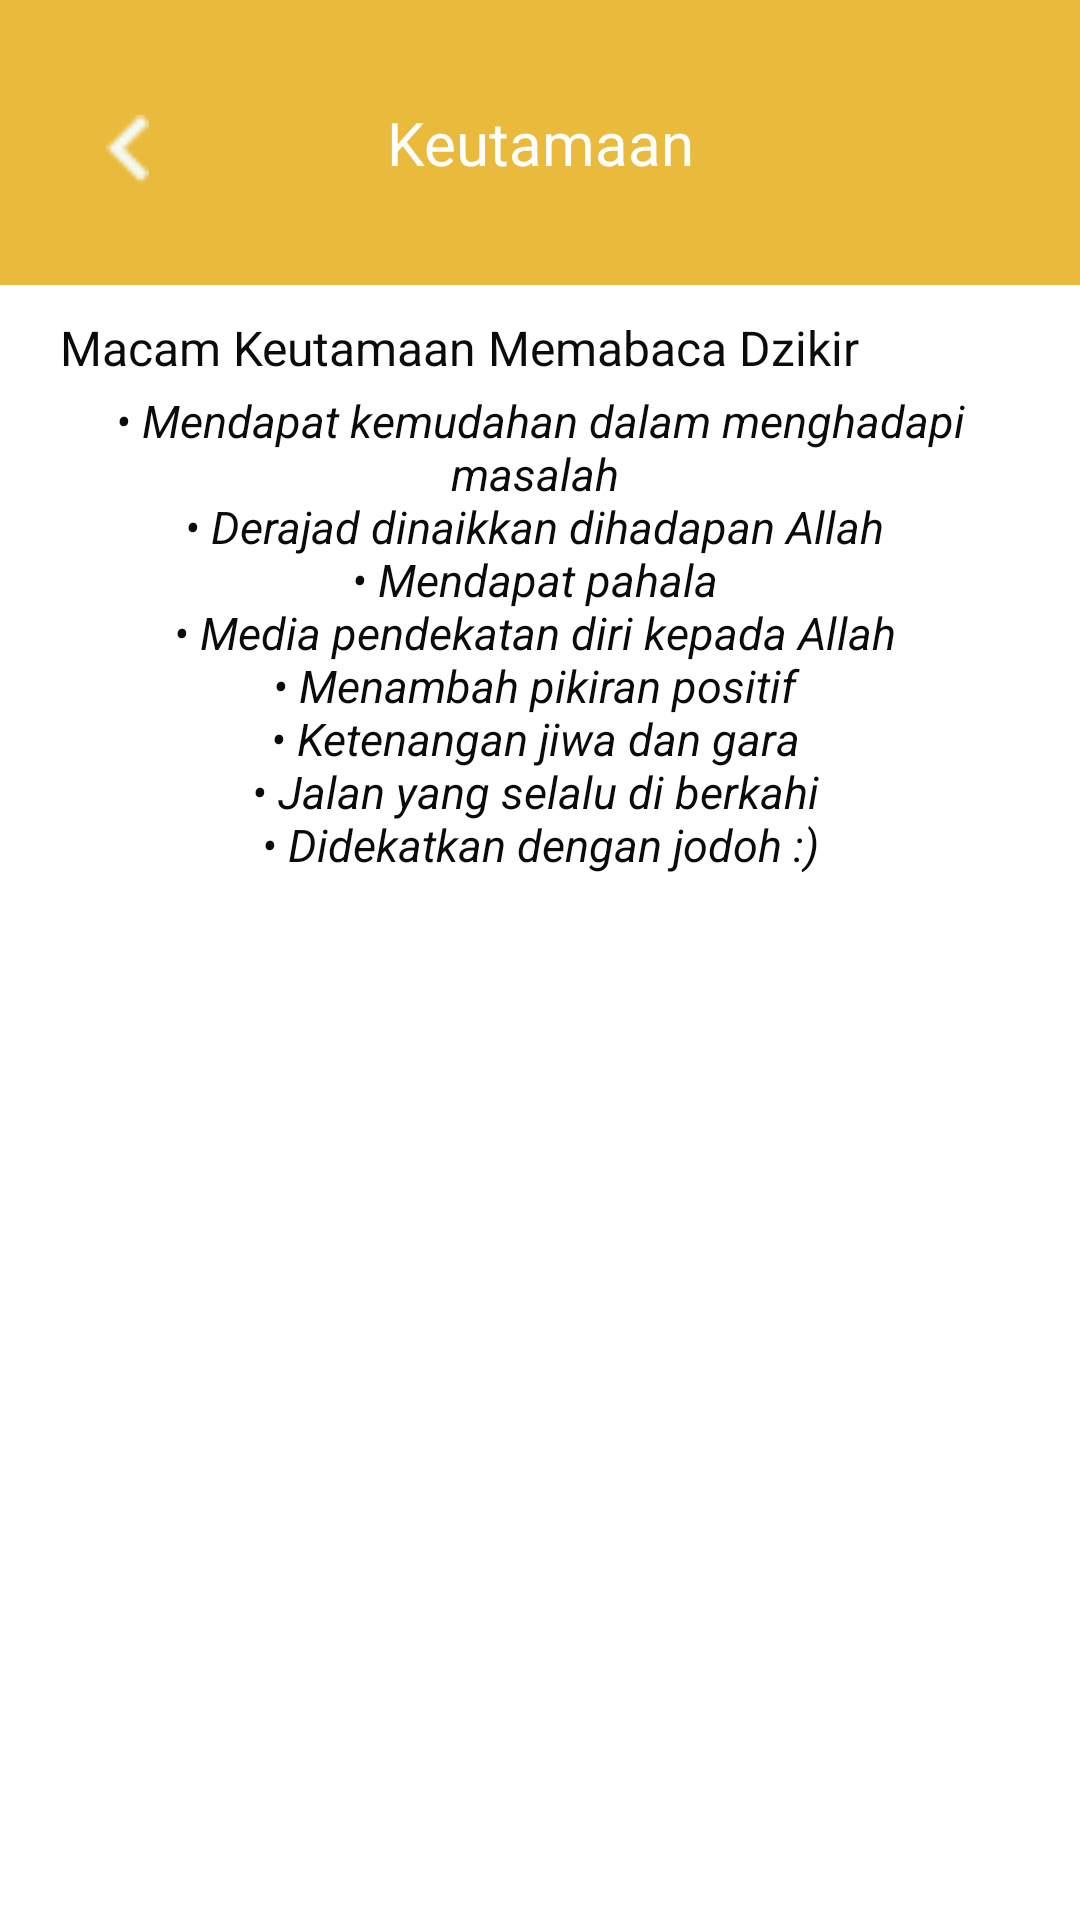

Point at icon controls on the screen. Image size 1080 x 1920, points as (x=x, y=y).
back: (x=127, y=148)
